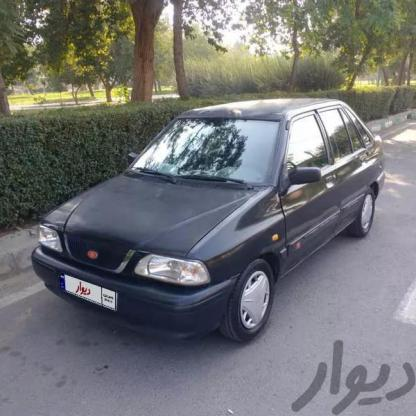Car: (24, 97, 393, 337)
